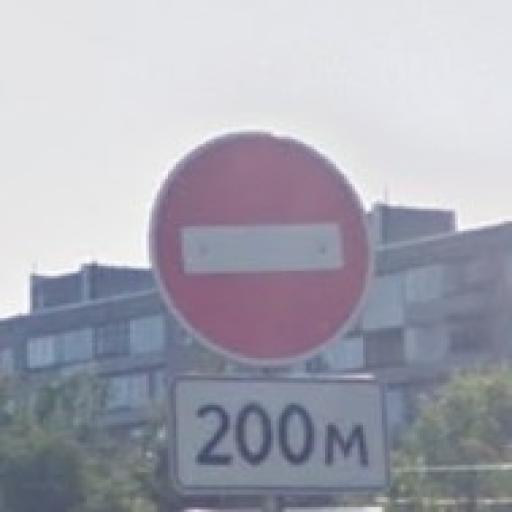traffic_sign: (147, 130, 375, 369)
